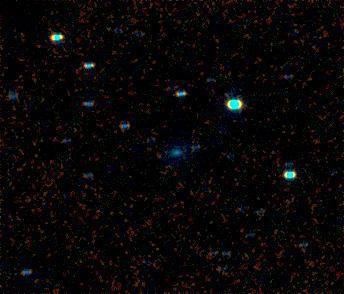star: (148, 138, 178, 168)
